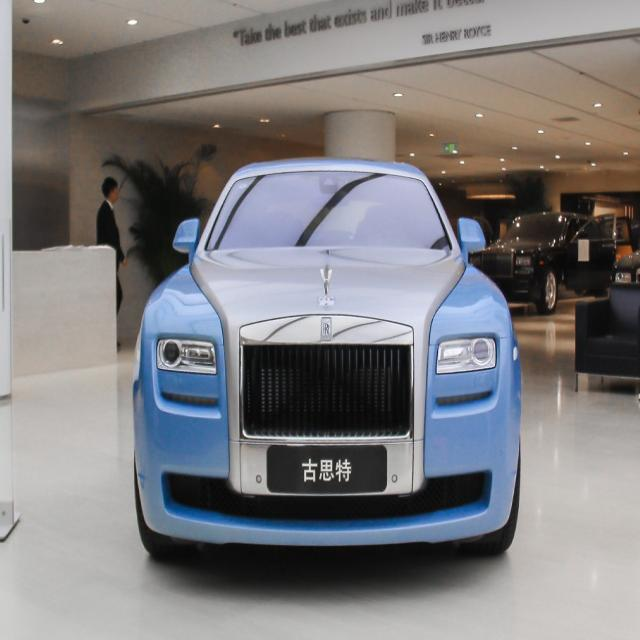front_bumper: (130, 369, 522, 548)
front_glass: (204, 165, 457, 254)
front_left_side_light: (436, 332, 498, 376)
front_left_side_mirror: (457, 215, 487, 262)
front_right_side_light: (154, 334, 218, 378)
front_right_side_mirror: (172, 216, 196, 258)
